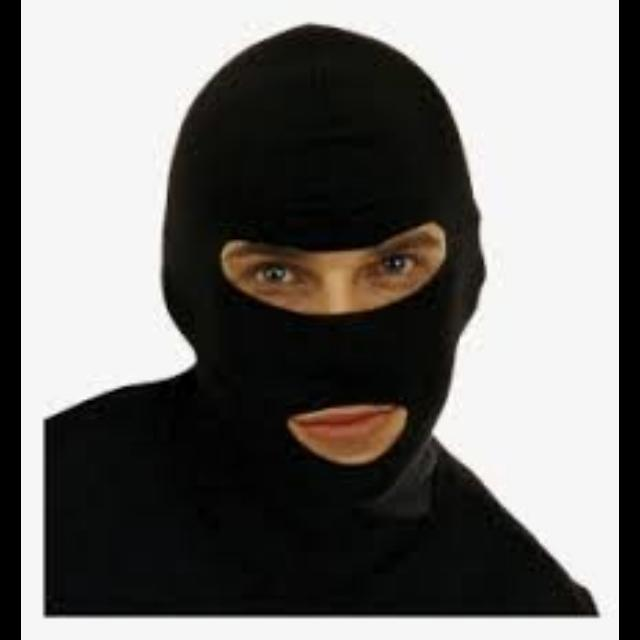criminal: (44, 22, 602, 617)
